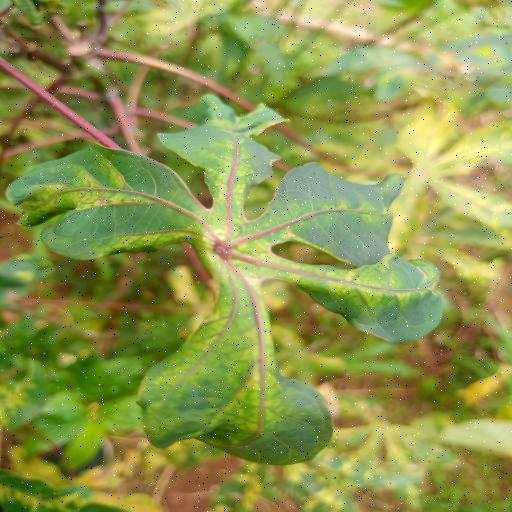Cassava_Mosaic: (12, 86, 450, 468)
